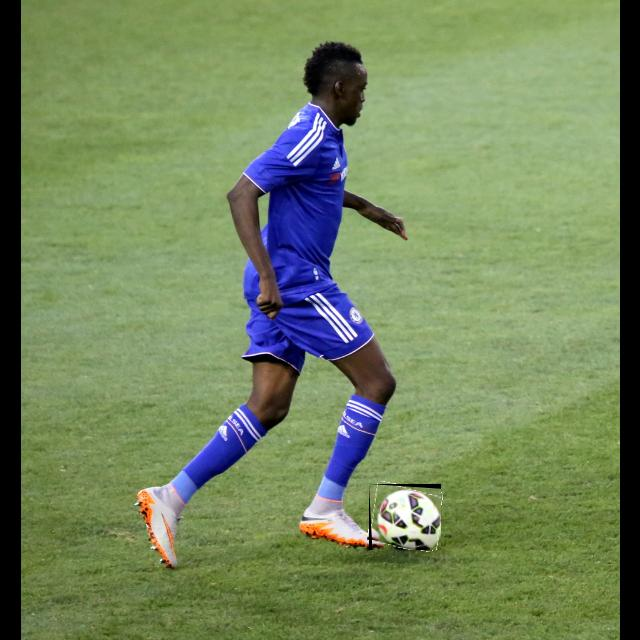Football: (369, 484, 441, 550)
